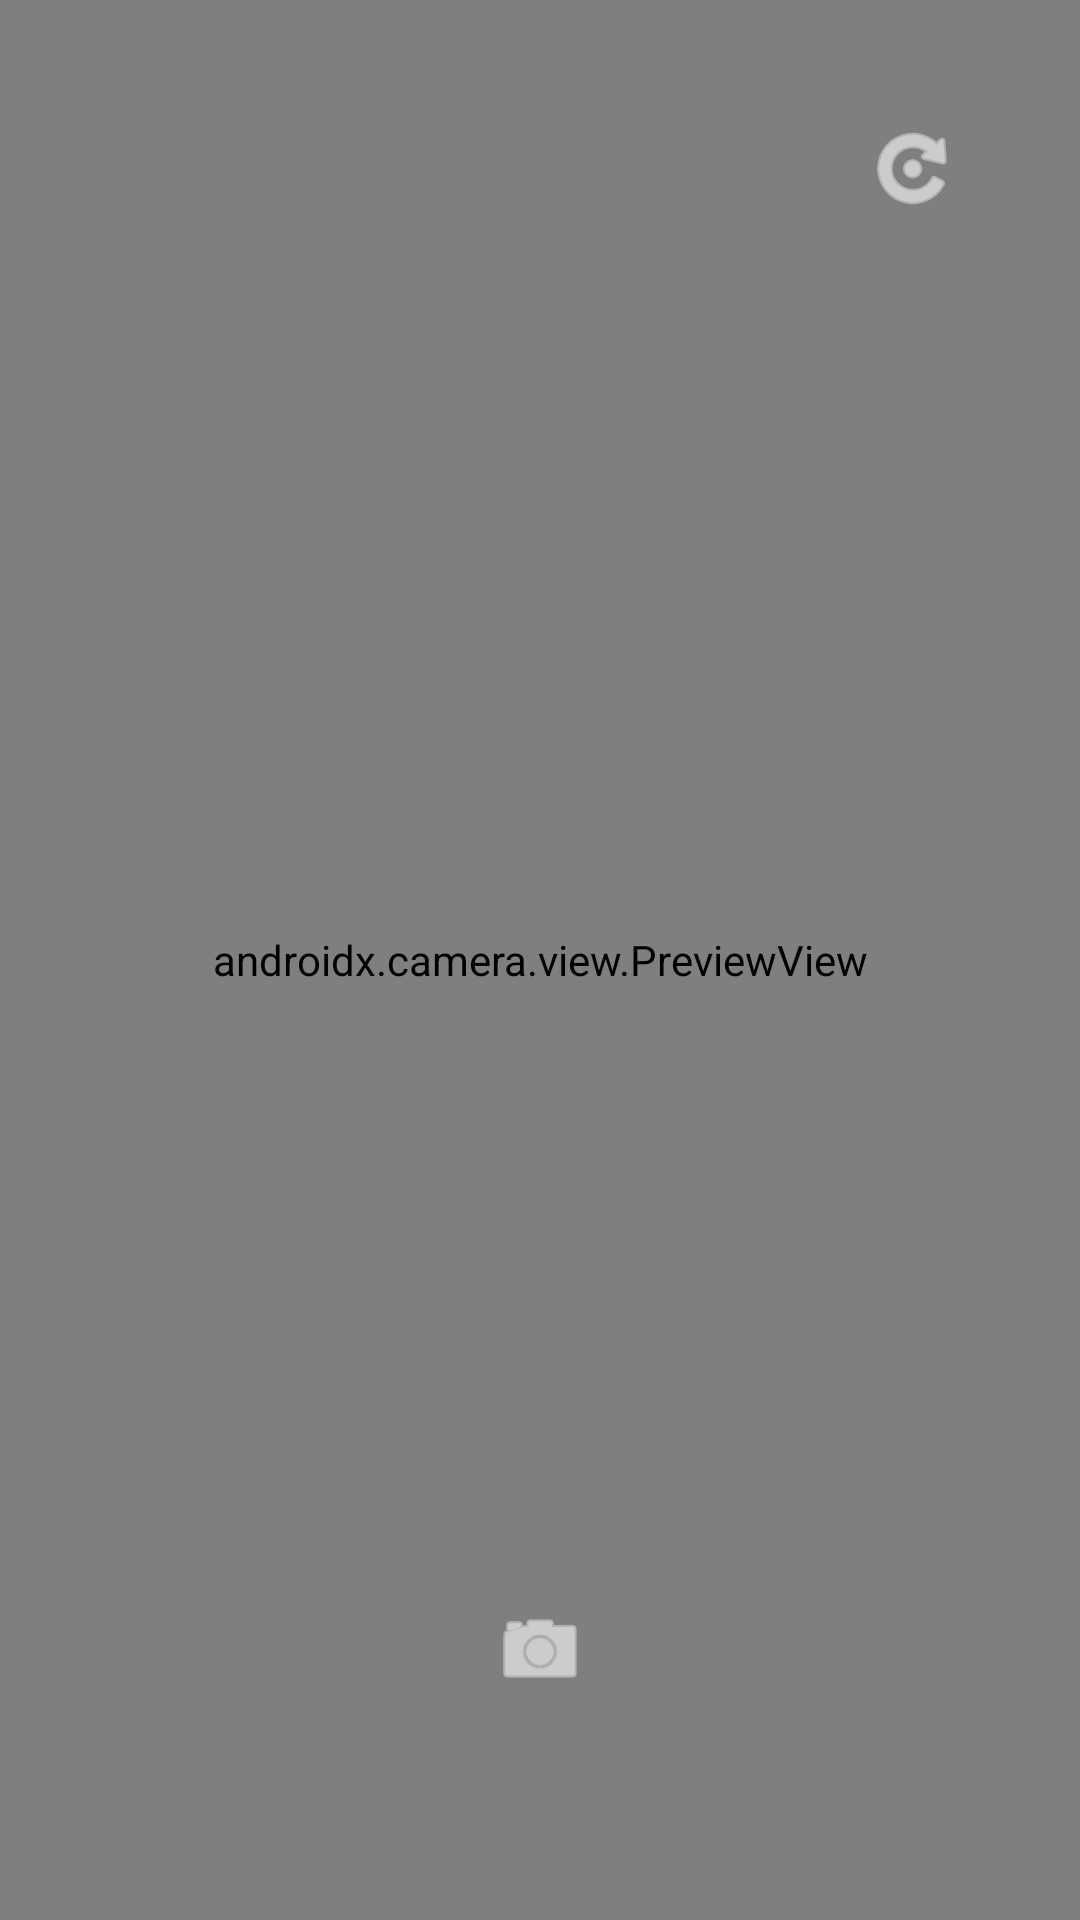

Where icons sit on this 1080 x 1920 app screen, as (x1, y1, x2, y2):
rotate: (877, 133, 947, 204)
